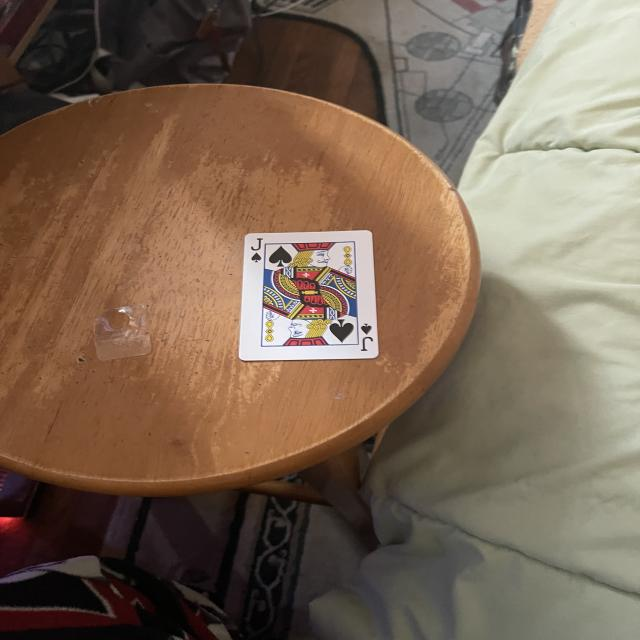Jack of spades: (239, 230, 377, 365)
